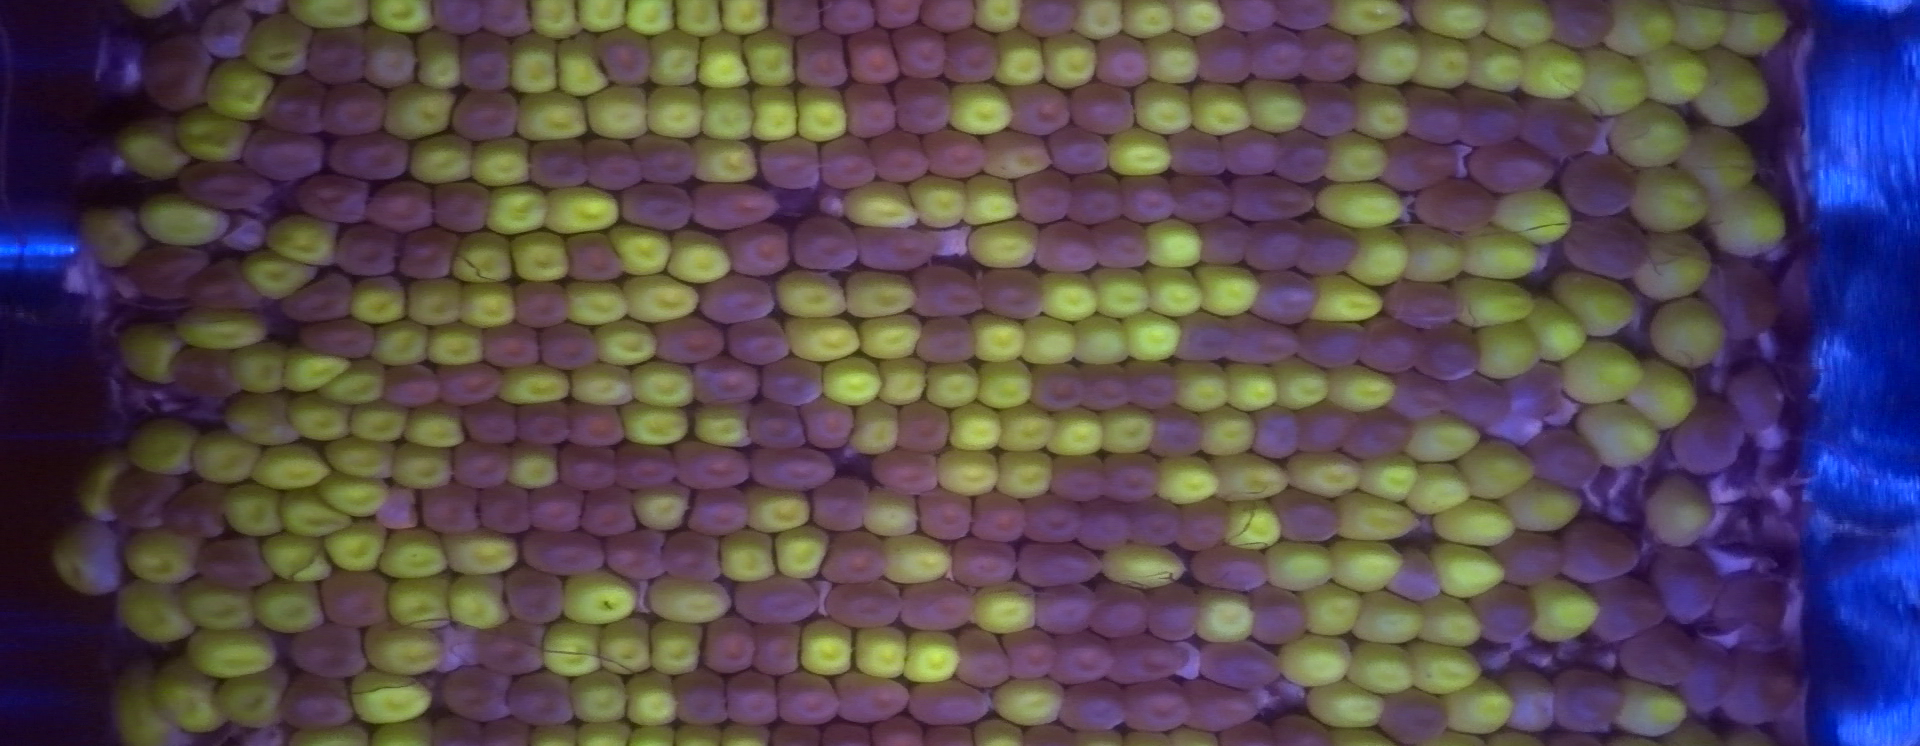fluorescent: (104, 661, 193, 746), (146, 658, 238, 737), (110, 577, 206, 650), (1641, 293, 1728, 372), (1600, 104, 1700, 168), (1697, 49, 1773, 131), (1325, 530, 1412, 601), (165, 104, 263, 165), (1548, 269, 1640, 334), (1700, 189, 1790, 254), (44, 523, 130, 592), (1676, 122, 1758, 194), (217, 386, 309, 448), (176, 573, 266, 637), (1554, 341, 1644, 403), (1636, 227, 1716, 298), (1621, 167, 1709, 229), (1644, 472, 1718, 546), (1575, 48, 1652, 119), (178, 624, 280, 676), (577, 80, 660, 145), (1424, 535, 1505, 601), (1630, 45, 1714, 108), (136, 190, 231, 245), (1487, 191, 1582, 246), (1329, 492, 1425, 546), (355, 621, 449, 676), (282, 385, 362, 448), (1090, 535, 1183, 590), (1528, 579, 1605, 646), (1611, 674, 1696, 734), (204, 54, 278, 122), (1444, 274, 1537, 328), (240, 13, 318, 77), (1313, 176, 1406, 229), (189, 428, 272, 486), (121, 527, 204, 586), (555, 568, 638, 627), (1460, 224, 1543, 283), (1490, 477, 1581, 530), (1406, 637, 1485, 698), (1348, 26, 1430, 85), (839, 180, 926, 235), (1573, 405, 1660, 461), (115, 119, 195, 179), (1349, 586, 1429, 646), (769, 265, 853, 321), (1434, 677, 1518, 734), (1512, 37, 1587, 100), (541, 615, 609, 685), (1631, 363, 1701, 430), (1400, 218, 1471, 284), (620, 268, 707, 322), (877, 530, 954, 590), (645, 575, 738, 624), (207, 673, 291, 726), (1340, 83, 1420, 140), (1299, 577, 1368, 643), (590, 612, 660, 677), (249, 578, 331, 633), (115, 322, 187, 385), (1468, 321, 1547, 379), (789, 617, 862, 679), (381, 82, 456, 142), (943, 78, 1018, 138), (438, 523, 519, 578), (76, 206, 146, 269), (344, 670, 432, 720), (964, 216, 1046, 269), (539, 181, 624, 233), (1300, 682, 1390, 731), (73, 445, 131, 521), (447, 225, 516, 289), (1341, 227, 1411, 289), (1307, 269, 1387, 323), (1261, 537, 1338, 593), (1322, 127, 1395, 187), (1521, 296, 1593, 356), (1344, 638, 1423, 693), (549, 36, 613, 102), (1596, 1, 1679, 53), (1407, 31, 1479, 89), (1427, 501, 1520, 546), (309, 472, 397, 519), (320, 425, 394, 481), (1182, 82, 1256, 138), (1191, 587, 1262, 646), (780, 315, 861, 366), (511, 92, 595, 141), (276, 488, 360, 537), (699, 80, 763, 145), (125, 419, 203, 472), (1322, 364, 1404, 414), (640, 82, 710, 141), (178, 309, 273, 352), (1716, 1, 1791, 55), (260, 529, 332, 586), (1240, 78, 1313, 135), (1151, 457, 1228, 510), (769, 521, 834, 583), (1462, 31, 1527, 93), (404, 269, 471, 330), (736, 31, 804, 89), (643, 624, 718, 677), (1127, 82, 1196, 140), (481, 184, 552, 240), (993, 677, 1073, 728), (508, 229, 576, 288), (1273, 635, 1354, 684), (852, 312, 927, 365), (931, 447, 1005, 500), (713, 528, 782, 584), (451, 274, 522, 330), (1037, 31, 1100, 93), (1163, 359, 1236, 413), (954, 170, 1021, 228), (447, 575, 514, 632), (618, 398, 696, 448), (220, 484, 289, 540), (662, 227, 732, 282), (971, 579, 1042, 633), (1190, 262, 1261, 316), (264, 212, 340, 262), (239, 251, 324, 295), (1033, 268, 1103, 322), (384, 575, 454, 628), (564, 668, 634, 722), (747, 85, 807, 147), (1144, 263, 1207, 322), (1400, 456, 1464, 513), (1211, 450, 1287, 499), (225, 341, 294, 394), (249, 442, 329, 488), (1408, 1, 1499, 42), (691, 136, 765, 185), (1213, 361, 1284, 413), (604, 224, 676, 274), (644, 29, 704, 89), (907, 173, 969, 232), (381, 530, 454, 579), (1482, 1, 1559, 48), (1265, 355, 1329, 412), (1220, 499, 1284, 554), (400, 399, 471, 450), (418, 29, 471, 96), (1119, 310, 1187, 363), (740, 485, 816, 532), (992, 29, 1051, 89), (422, 320, 491, 371), (1667, 1, 1735, 53), (1092, 266, 1153, 323), (1288, 450, 1362, 497), (1102, 126, 1172, 176), (561, 361, 638, 407), (407, 138, 481, 185), (470, 136, 538, 187), (490, 363, 571, 405), (694, 33, 754, 91), (504, 37, 560, 99), (1019, 315, 1081, 370), (862, 485, 924, 540), (1406, 416, 1482, 462), (989, 450, 1059, 499), (1142, 220, 1207, 273), (626, 360, 700, 405), (623, 668, 681, 726), (342, 273, 410, 322), (561, 277, 631, 325), (591, 315, 658, 365), (972, 361, 1040, 410), (1048, 407, 1109, 461), (1419, 597, 1487, 646), (389, 441, 458, 489), (503, 440, 567, 491), (324, 356, 391, 405), (901, 626, 956, 685), (920, 356, 980, 410), (818, 356, 879, 409), (1144, 29, 1200, 86), (970, 310, 1029, 364), (853, 625, 912, 679), (842, 272, 916, 315), (795, 85, 851, 140), (1100, 397, 1153, 454), (997, 401, 1054, 454), (369, 318, 433, 366), (322, 522, 387, 570), (274, 344, 350, 385), (851, 399, 905, 454), (947, 404, 1007, 453), (1071, 314, 1128, 365), (350, 398, 413, 443), (631, 481, 688, 530), (1116, 1, 1178, 45), (366, 1, 441, 38), (1205, 405, 1258, 457), (877, 356, 931, 407), (1069, 1, 1127, 47), (294, 1, 375, 33), (691, 403, 753, 443), (564, 1, 633, 38), (1362, 456, 1413, 503), (1332, 1, 1412, 32), (669, 1, 729, 40), (524, 1, 587, 38), (622, 1, 682, 38), (1176, 1, 1237, 36), (969, 1, 1024, 37), (370, 717, 435, 746), (719, 1, 773, 36), (621, 718, 681, 746), (288, 728, 377, 746), (571, 722, 637, 746), (972, 717, 1024, 746), (524, 720, 580, 746)
nonfluorescent: (1558, 511, 1646, 588), (1562, 208, 1653, 278), (122, 239, 211, 310), (1722, 356, 1798, 437), (1460, 134, 1564, 192), (107, 465, 189, 539), (1709, 265, 1787, 341), (1673, 398, 1751, 473), (1558, 148, 1638, 220), (1651, 545, 1722, 626), (1518, 96, 1605, 160), (140, 36, 213, 110), (315, 562, 397, 628), (185, 256, 268, 321), (684, 179, 782, 234), (1013, 535, 1111, 590), (1584, 576, 1669, 639), (291, 171, 381, 232), (1265, 481, 1346, 548), (1193, 635, 1288, 690), (782, 211, 864, 274), (1452, 73, 1524, 146), (519, 526, 615, 579), (1556, 661, 1629, 733), (178, 158, 271, 213), (1730, 649, 1796, 726), (1708, 572, 1787, 637), (1621, 626, 1700, 691), (160, 474, 234, 543), (740, 443, 845, 491), (1380, 131, 1460, 194), (1416, 175, 1504, 232), (284, 619, 369, 677), (190, 537, 278, 593), (1177, 674, 1269, 728), (1674, 641, 1740, 715), (327, 127, 416, 183), (1221, 170, 1316, 222), (1491, 526, 1569, 589), (277, 666, 356, 728), (694, 268, 782, 323), (242, 126, 328, 183), (813, 576, 906, 627), (719, 220, 798, 281), (1343, 402, 1418, 465), (1116, 676, 1196, 735), (684, 354, 770, 409), (893, 577, 978, 632), (261, 71, 338, 132), (324, 72, 394, 140), (845, 222, 940, 271), (1183, 541, 1278, 590), (997, 82, 1078, 140), (669, 439, 757, 491), (724, 576, 823, 622), (1375, 681, 1449, 744), (276, 269, 359, 325), (550, 437, 626, 497), (1224, 311, 1307, 366), (1380, 274, 1466, 327), (444, 665, 518, 726), (752, 136, 831, 192), (1528, 430, 1604, 489), (503, 673, 584, 728), (1029, 217, 1098, 281), (1293, 76, 1364, 138), (887, 76, 960, 136), (900, 679, 997, 724), (593, 21, 656, 89), (1089, 32, 1158, 94), (1064, 167, 1134, 229), (1236, 212, 1308, 272), (1498, 361, 1572, 419), (396, 223, 464, 285), (449, 87, 527, 142), (468, 617, 552, 668), (1358, 309, 1419, 377), (600, 526, 672, 583), (831, 666, 909, 720), (1296, 315, 1369, 371), (1296, 22, 1362, 85), (940, 20, 1002, 87), (1021, 489, 1089, 550), (1400, 85, 1468, 145), (836, 78, 905, 138), (302, 24, 372, 83), (364, 178, 440, 232), (520, 479, 591, 537), (947, 539, 1030, 588), (1103, 635, 1187, 684), (333, 220, 405, 277), (364, 21, 420, 93), (170, 344, 247, 397), (951, 626, 1016, 688), (579, 136, 645, 197), (1172, 309, 1239, 369), (500, 563, 567, 624), (1065, 81, 1135, 138), (742, 396, 813, 452), (1245, 584, 1309, 647), (1190, 27, 1256, 87), (634, 130, 700, 190), (720, 314, 793, 367), (1442, 370, 1510, 429), (659, 530, 732, 584), (539, 318, 606, 377), (430, 176, 497, 235), (756, 354, 830, 407), (615, 181, 699, 228), (1100, 448, 1171, 503), (451, 439, 522, 494), (770, 677, 842, 731), (806, 472, 872, 530), (916, 127, 993, 178), (566, 228, 634, 284), (454, 29, 514, 93), (798, 29, 856, 96), (528, 136, 594, 194), (1044, 122, 1117, 175), (1213, 127, 1287, 179), (869, 443, 947, 492), (294, 318, 384, 360), (1297, 216, 1360, 274), (864, 134, 936, 186), (1082, 584, 1149, 641), (1469, 584, 1536, 641), (997, 628, 1064, 684), (820, 530, 890, 583), (610, 436, 680, 489), (911, 488, 976, 544), (696, 617, 760, 674), (418, 485, 489, 537), (911, 265, 978, 318), (431, 358, 503, 408), (1495, 671, 1558, 729), (577, 483, 640, 539), (1250, 276, 1325, 323), (1293, 401, 1364, 451), (1049, 632, 1116, 686), (797, 394, 857, 453), (720, 666, 781, 724), (885, 23, 948, 80), (1116, 169, 1178, 225), (1417, 325, 1480, 380), (975, 268, 1044, 318), (1057, 682, 1127, 733), (891, 399, 958, 452), (1086, 218, 1153, 269), (913, 312, 981, 364), (474, 479, 534, 537), (564, 403, 633, 453), (1276, 127, 1331, 190), (1382, 548, 1446, 601), (1389, 369, 1455, 420), (684, 488, 756, 535), (474, 325, 545, 372), (1249, 403, 1307, 462), (669, 673, 730, 728), (1047, 450, 1109, 503), (811, 140, 879, 189), (460, 393, 524, 446), (1030, 582, 1095, 633), (512, 279, 577, 331), (1189, 216, 1255, 266), (842, 29, 902, 85), (1013, 168, 1073, 223), (747, 616, 801, 677), (1166, 126, 1229, 178), (1151, 402, 1209, 458), (1176, 494, 1229, 554), (1142, 584, 1199, 641), (1074, 359, 1131, 414), (967, 492, 1029, 544), (1551, 1, 1619, 48), (1020, 365, 1087, 412), (512, 401, 574, 450), (1075, 499, 1131, 552), (1247, 29, 1305, 81), (1124, 359, 1183, 410), (378, 360, 443, 405), (1168, 171, 1232, 217), (1128, 497, 1184, 545), (1264, 713, 1337, 746), (479, 1, 540, 40), (917, 1, 986, 36), (422, 710, 486, 746), (769, 1, 827, 40), (1210, 718, 1289, 746), (1018, 1, 1082, 36), (429, 1, 489, 36), (1272, 1, 1342, 31), (820, 1, 880, 34), (871, 715, 931, 746), (1218, 1, 1280, 31), (482, 717, 539, 746), (872, 1, 929, 28), (1022, 722, 1078, 746), (1555, 733, 1603, 746)
